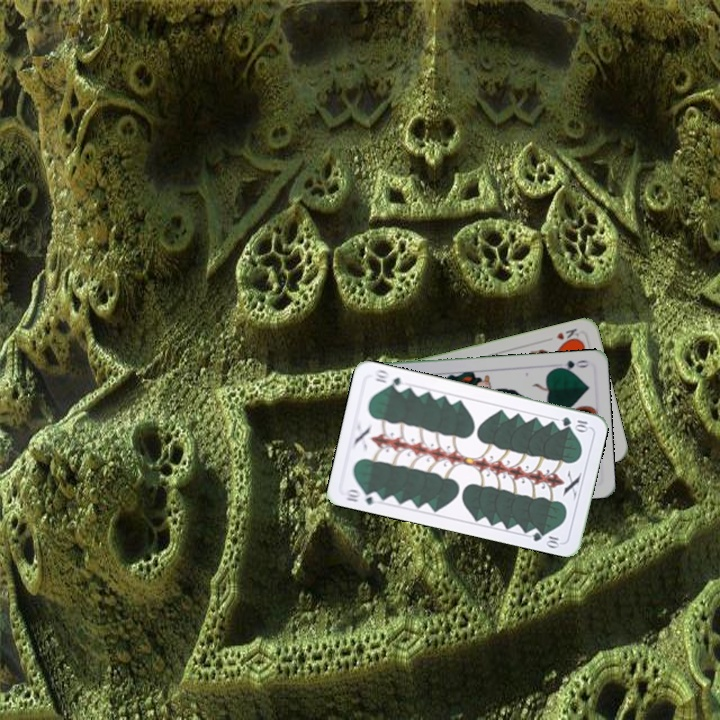G10: (341, 485, 383, 507), (558, 413, 592, 433)
GO: (552, 356, 592, 374)
HK: (552, 324, 582, 346)
